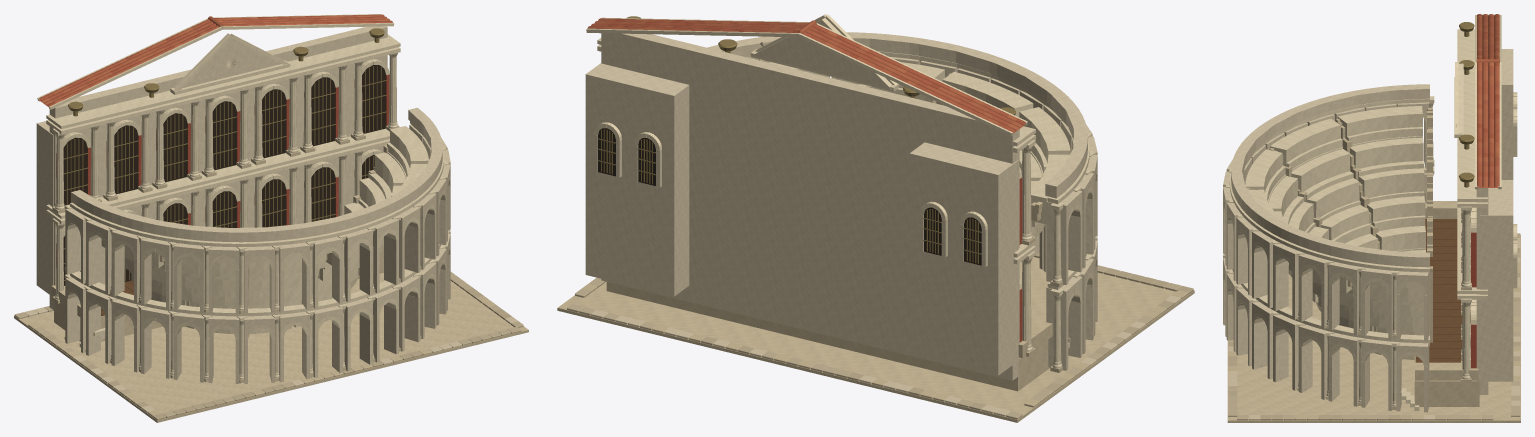
Rendered from theater.glb.
3 views of the same model, side by side, from view 1: azimuth 30°, elevation 25°; view 2: azimuth 150°, elevation 25°; view 3: azimuth 270°, elevation 25° (orthographic). The views are drawn at different scales.
Visible parts, largest first — view 1: Limewash.001, Limestone_trim.001, Limewash.002, Travertine.001, Limestone_trim.002, Interior_shadow.001, Limestone_trim.003, Bronze.001, Limewash.003, Travertine.002, Tile_0.001, Pompeian_red.002 (+10 smaller); view 2: Limewash.002, Limewash.001, Travertine.001, Travertine.002, Limestone_trim.001, Limestone_trim.003, Limewash.003, Limestone_trim.002, Tile_0.001, Interior_shadow.001, Bronze.001, Paving_3.001 (+11 smaller); view 3: Limewash.001, Limewash.002, Limestone_trim.003, Limestone_trim.001, Travertine.002, Limestone_trim.002, Limewash.003, Travertine.001, Oak.002, Oak.001, Tile_0.001, Travertine.003 (+15 smaller).
Part boxes in pixels (box(x1,y1,x2,y2)): Limewash.001: box(37, 26, 450, 383); Limestone_trim.001: box(37, 14, 450, 379); Limewash.002: box(36, 26, 450, 383); Travertine.001: box(14, 125, 528, 422); Limestone_trim.002: box(46, 34, 450, 376); Interior_shadow.001: box(63, 65, 385, 285); Limestone_trim.003: box(59, 55, 450, 376); Bronze.001: box(63, 28, 386, 281); Limewash.003: box(65, 109, 450, 337); Travertine.002: box(14, 126, 528, 422); Tile_0.001: box(39, 15, 387, 100); Pompeian_red.002: box(56, 74, 389, 263); Limewash.002: box(585, 32, 1097, 380); Limewash.001: box(586, 17, 1097, 379); Travertine.001: box(558, 73, 1194, 421); Travertine.002: box(557, 202, 1194, 422); Limestone_trim.001: box(586, 14, 1097, 368); Limestone_trim.003: box(596, 51, 1097, 365); Limewash.003: box(710, 33, 1097, 310); Limestone_trim.002: box(594, 38, 1097, 365); Tile_0.001: box(591, 18, 1015, 132); Interior_shadow.001: box(598, 128, 981, 265); Bronze.001: box(597, 16, 1015, 263); Paving_3.001: box(567, 266, 1181, 419); Limewash.001: box(1223, 49, 1516, 411); Limewash.002: box(1223, 49, 1517, 412); Limestone_trim.003: box(1223, 99, 1470, 383); Limestone_trim.001: box(1223, 15, 1517, 410); Travertine.002: box(1227, 111, 1520, 422); Limestone_trim.002: box(1223, 29, 1517, 410); Limewash.003: box(1223, 84, 1429, 363); Travertine.001: box(1228, 108, 1520, 422); Oak.002: box(1415, 219, 1470, 362); Oak.001: box(1416, 219, 1470, 362); Tile_0.001: box(1477, 14, 1499, 186); Travertine.003: box(1268, 115, 1432, 342).
Size of the model in its own units: 26.4 by 17.93 by 17.88.
Materials: 18 (6 with a texture image).
